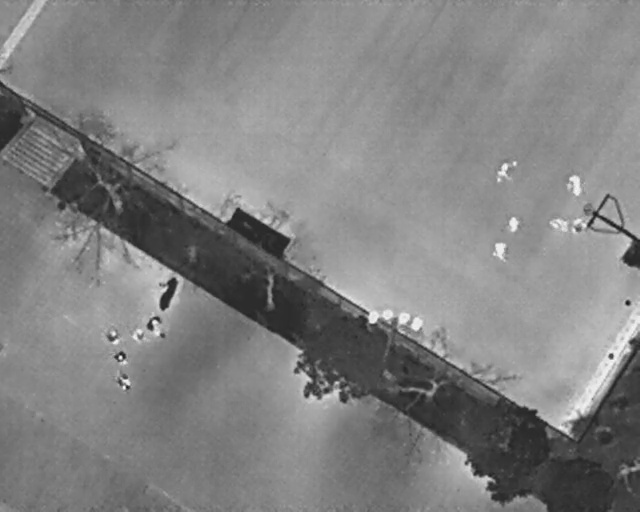Bicycle: (149, 271, 181, 314)
Person: (144, 313, 172, 343), (494, 160, 513, 185), (104, 327, 124, 347), (567, 173, 583, 196), (116, 373, 133, 393), (492, 240, 507, 261), (548, 218, 569, 231), (113, 350, 130, 366), (569, 219, 588, 233), (132, 327, 147, 344), (507, 214, 520, 232)
